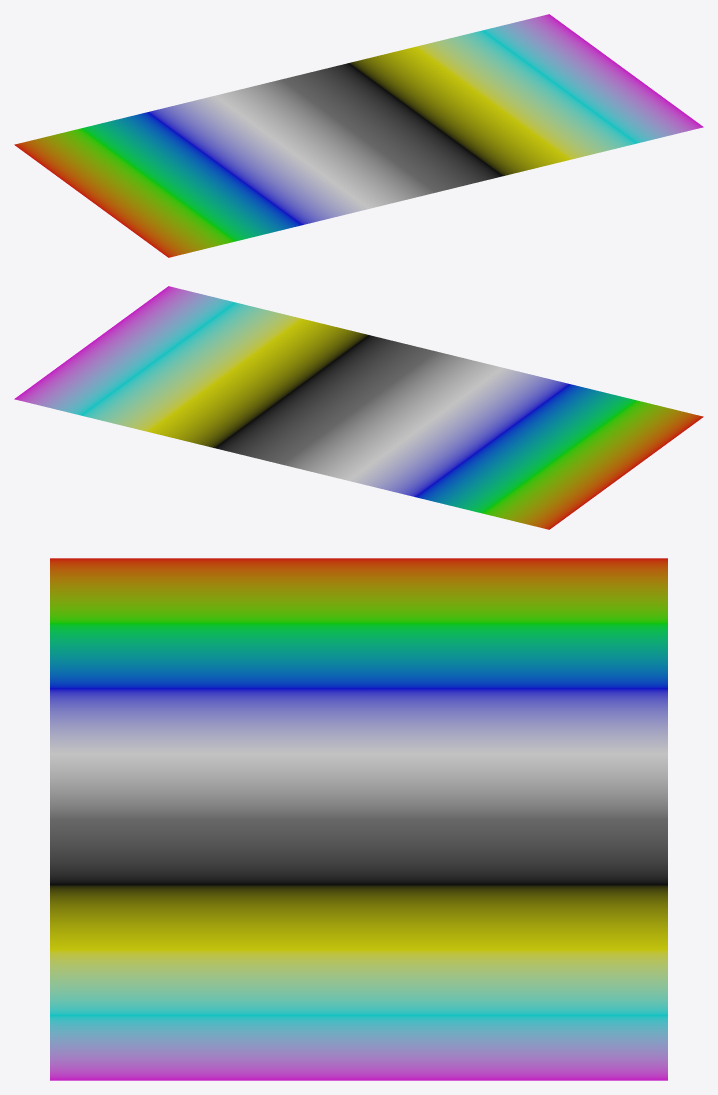
The model's file is SM_Debug_VertexColorPlane_01.fbx.
3 views of the same model, one above another, from view 1: azimuth 30°, elevation 25°; view 2: azimuth 150°, elevation 25°; view 3: azimuth 270°, elevation 25° (orthographic). The views are drawn at different scales.
Visible parts, largest first — view 1: SM_Debug_VertexColorPlane_01; view 2: SM_Debug_VertexColorPlane_01; view 3: SM_Debug_VertexColorPlane_01.
Part boxes in pixels (x1,y1,x2,y2): SM_Debug_VertexColorPlane_01: (14,14,703,257); SM_Debug_VertexColorPlane_01: (14,286,703,529); SM_Debug_VertexColorPlane_01: (50,558,667,1080).
Bounding box in the file's own units: 2000 × 0 × 1000.
